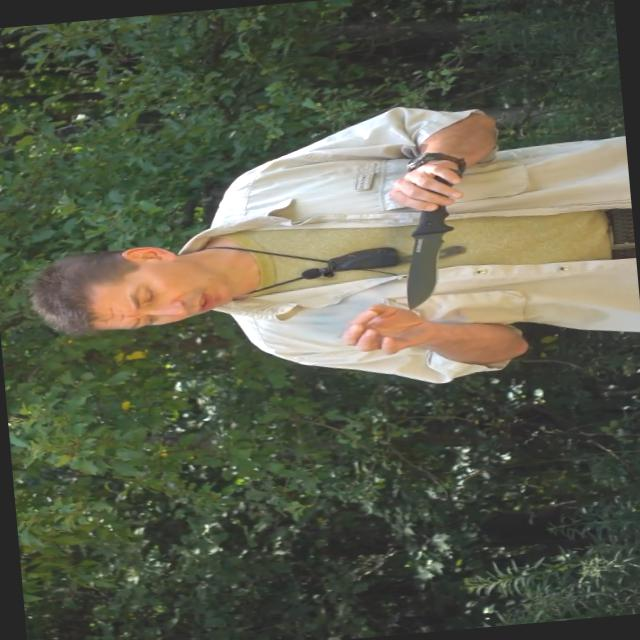knife: (391, 168, 474, 311)
